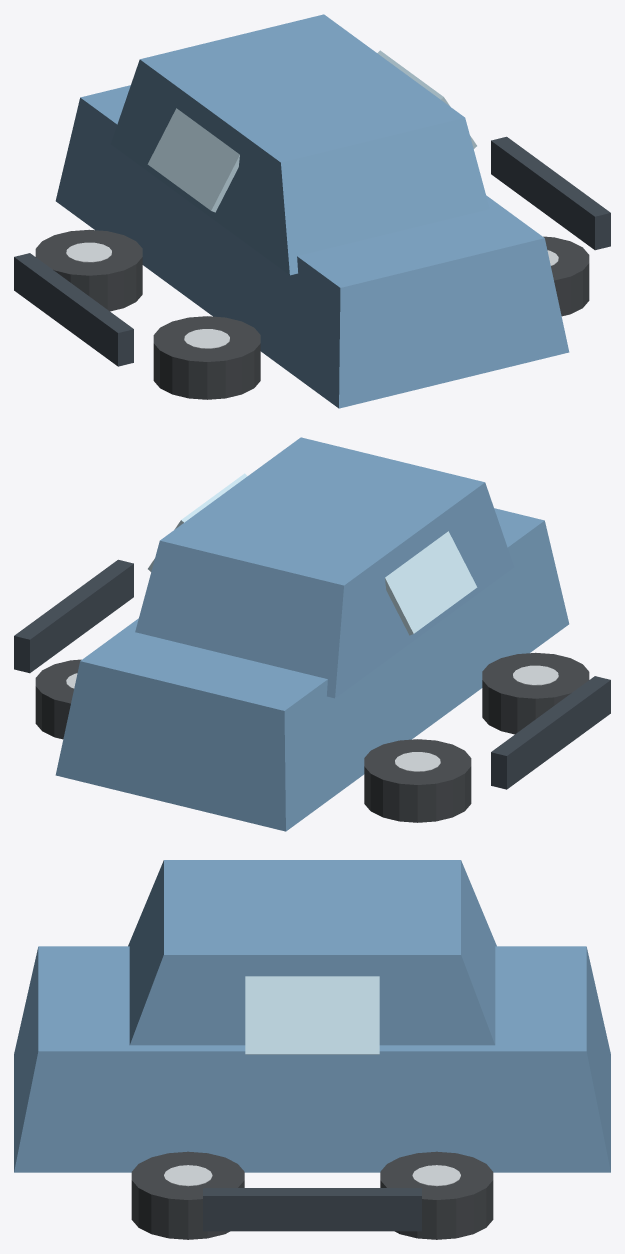
File: car_sedan.glb
The picture shows the model from 3 angles, top to bottom: view 1: azimuth 30°, elevation 25°; view 2: azimuth 150°, elevation 25°; view 3: azimuth 270°, elevation 25°; orthographic projection. The views are drawn at different scales.
Parts seen in each view (by area): view 1: CarBody, CarCabin, Wheel-0.820.51, Bumper1.19, Bumper-1.19, Wheel-0.82-0.51, Glass-0.57, Wheel0.820.51, Rim-0.82-0.51, Rim-0.820.51; view 2: CarBody, CarCabin, Wheel-0.82-0.51, Bumper1.19, Bumper-1.19, Wheel-0.820.51, Glass-0.57, Wheel0.82-0.51, Rim-0.820.51, Rim-0.82-0.51; view 3: CarBody, CarCabin, Glass0.57, Bumper1.19, Wheel0.82-0.51, Wheel0.820.51, Rim0.82-0.51, Rim0.820.51.
Boxes of the visible parts, left/top/right/bottom form: CarBody: left=55, top=85, right=569, bottom=408; CarCabin: left=111, top=14, right=489, bottom=275; Wheel-0.820.51: left=153, top=316, right=260, bottom=399; Bumper1.19: left=491, top=136, right=610, bottom=250; Bumper-1.19: left=14, top=253, right=133, bottom=366; Wheel-0.82-0.51: left=35, top=229, right=142, bottom=311; Glass-0.57: left=147, top=108, right=239, bottom=212; Wheel0.820.51: left=543, top=236, right=589, bottom=316; Rim-0.82-0.51: left=66, top=242, right=111, bottom=262; Rim-0.820.51: left=184, top=329, right=229, bottom=348; CarBody: left=55, top=508, right=569, bottom=831; CarCabin: left=135, top=437, right=513, bottom=698; Wheel-0.82-0.51: left=364, top=739, right=471, bottom=822; Bumper1.19: left=14, top=559, right=133, bottom=673; Bumper-1.19: left=491, top=676, right=610, bottom=789; Wheel-0.820.51: left=482, top=652, right=589, bottom=734; Glass-0.57: left=385, top=531, right=477, bottom=635; Wheel0.82-0.51: left=35, top=659, right=81, bottom=739; Rim-0.820.51: left=513, top=665, right=558, bottom=685; Rim-0.82-0.51: left=395, top=752, right=440, bottom=771; CarBody: left=14, top=946, right=610, bottom=1172; CarCabin: left=128, top=860, right=496, bottom=1045; Glass0.57: left=245, top=976, right=379, bottom=1054; Bumper1.19: left=203, top=1188, right=421, bottom=1231; Wheel0.82-0.51: left=380, top=1151, right=493, bottom=1239; Wheel0.820.51: left=131, top=1151, right=244, bottom=1239; Rim0.82-0.51: left=412, top=1165, right=460, bottom=1186; Rim0.820.51: left=164, top=1165, right=212, bottom=1186.
Size of the model in its own units: 2.46 by 0.9925 by 2.45.
